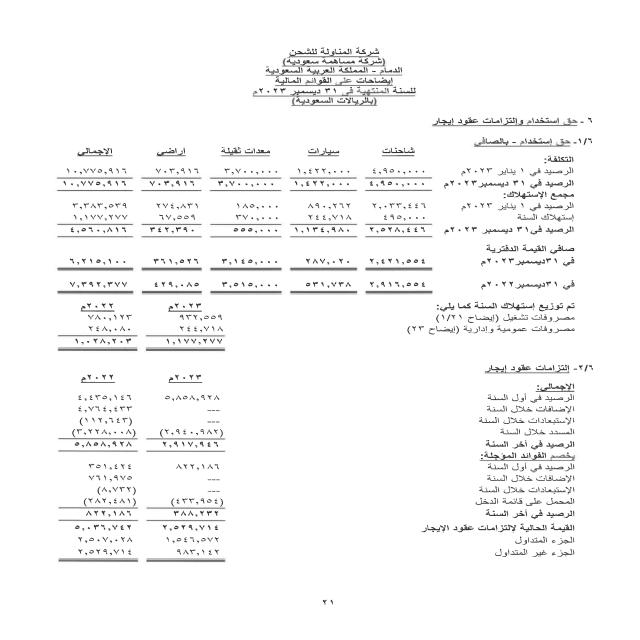notes: (265, 77, 397, 86)
table: (39, 140, 437, 298), (42, 364, 236, 565), (46, 303, 236, 353)
